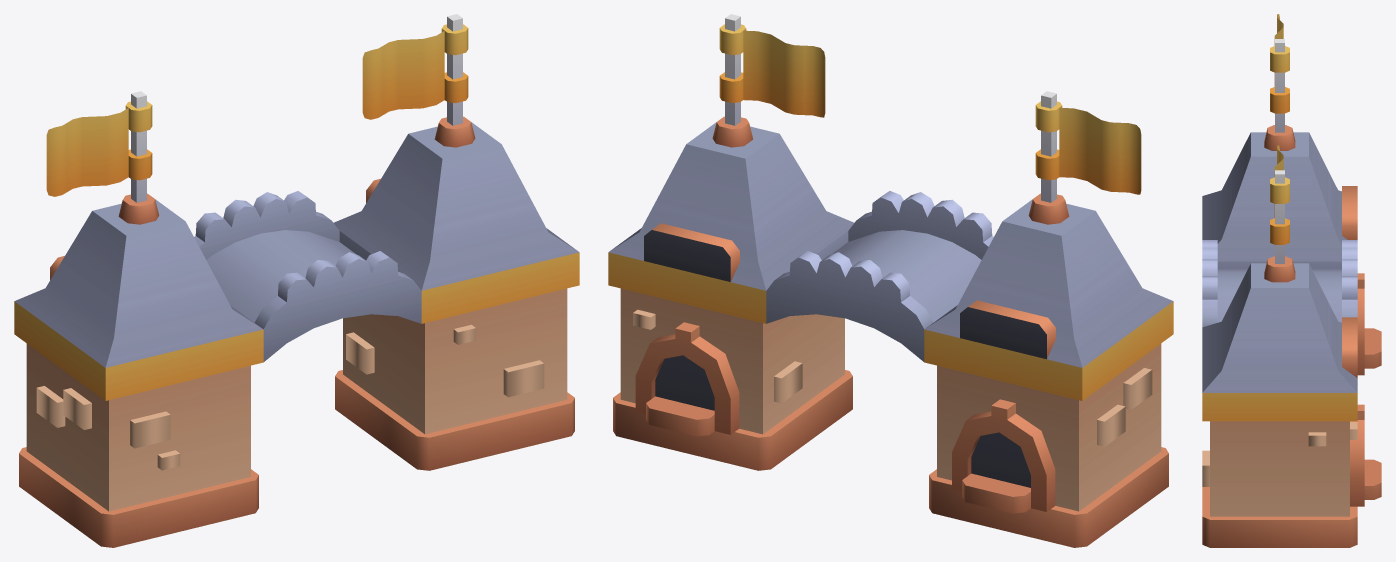
File: park-entrance.glb
3 views of the same model, side by side, from view 1: azimuth 30°, elevation 25°; view 2: azimuth 150°, elevation 25°; view 3: azimuth 270°, elevation 25° (orthographic). The views are drawn at different scales.
Visible parts, largest first — view 1: park-entrance; view 2: park-entrance; view 3: park-entrance.
Boxes of the visible parts, bbox=[...] form: park-entrance: bbox=[14, 14, 579, 547]; park-entrance: bbox=[608, 14, 1173, 547]; park-entrance: bbox=[1202, 14, 1381, 547].
Bounding box in the file's own units: 3.09 × 2.43 × 1.16.
Materials: 1 (1 with a texture image).
